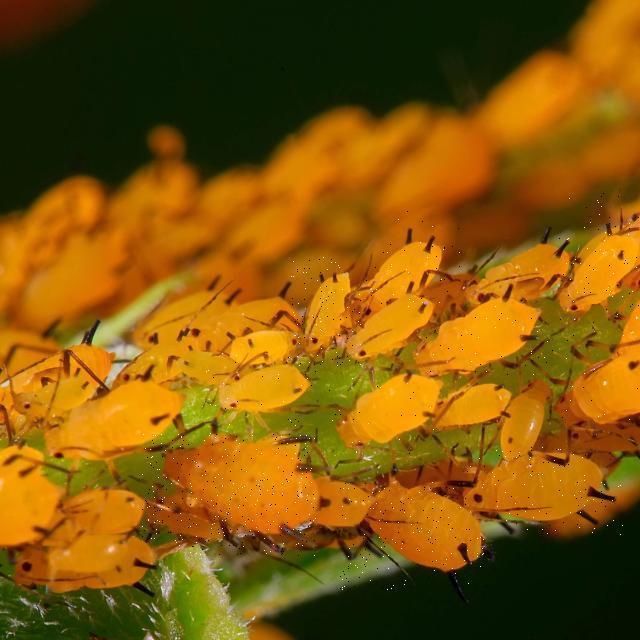aphid: (142, 433, 316, 556), (340, 482, 496, 590), (466, 446, 624, 536), (401, 297, 560, 384), (340, 211, 462, 307), (43, 379, 185, 457), (558, 193, 640, 327), (329, 374, 438, 458), (15, 528, 158, 592), (290, 256, 364, 372), (206, 353, 316, 426), (561, 335, 640, 434), (1, 446, 64, 544), (497, 382, 550, 462), (228, 328, 298, 367)
